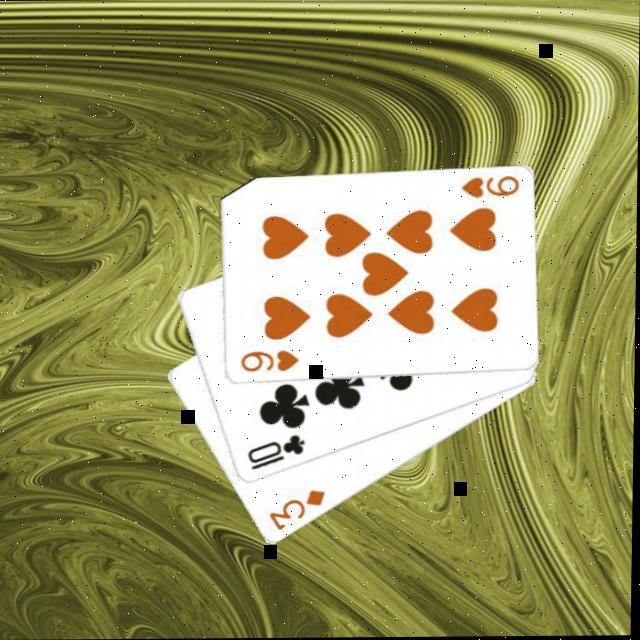10C: (244, 433, 308, 475)
3D: (266, 488, 329, 535)
9H: (238, 349, 302, 376), (458, 175, 522, 202)
